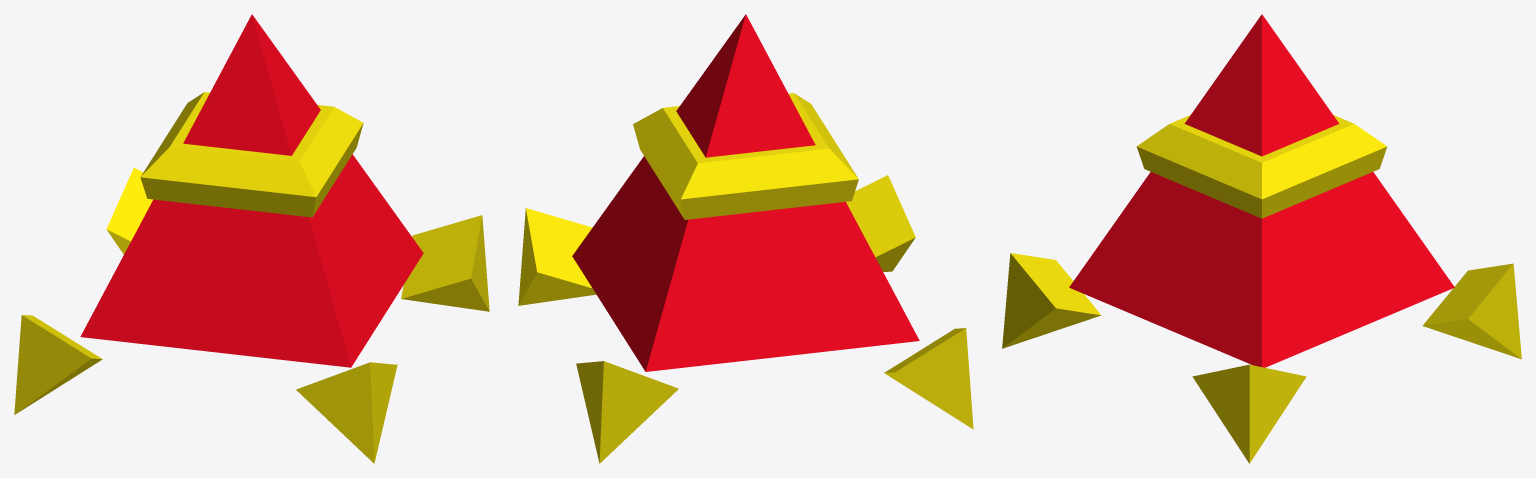
The model's file is FireHead.FBX.
3 renders of one model, left to right at view 1: azimuth 30°, elevation 25°; view 2: azimuth 150°, elevation 25°; view 3: azimuth 270°, elevation 25°, orthographic. The views are drawn at different scales.
Visible parts, largest first — view 1: FireHead; view 2: FireHead; view 3: FireHead.
Boxes of the visible parts, <box> form: FireHead: <box>14,14,489,463</box>; FireHead: <box>518,14,973,463</box>; FireHead: <box>1002,14,1521,463</box>.
Size of the model in its own units: 15.43 by 11.14 by 15.43.
